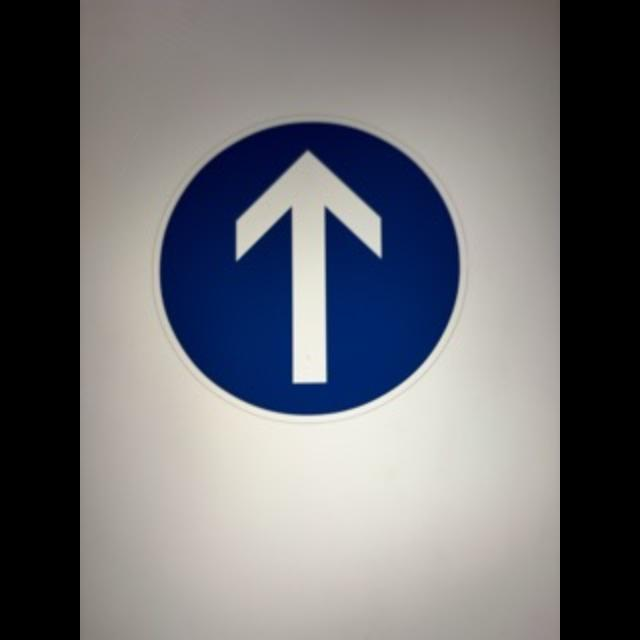GO FORWARD: (158, 118, 462, 414)
